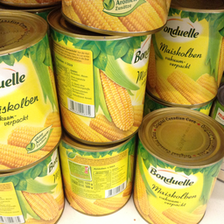corn: (48, 9, 147, 145), (138, 106, 224, 222), (1, 12, 63, 172), (150, 5, 224, 106), (57, 135, 135, 217), (1, 147, 65, 224)
